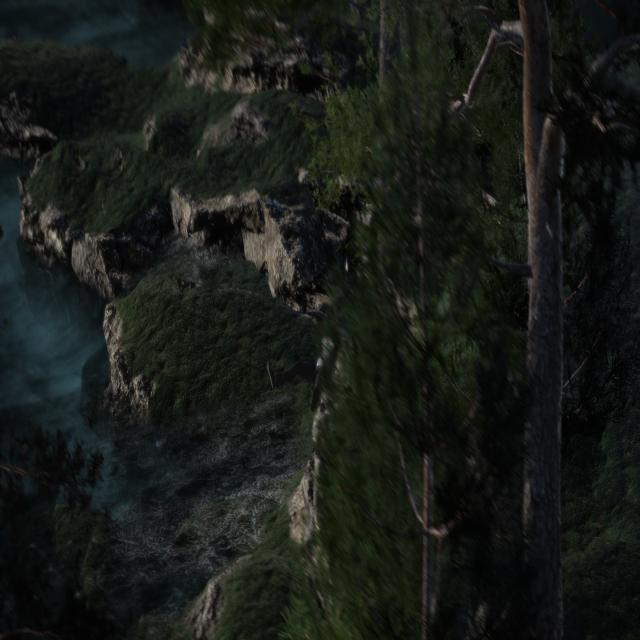Human: (260, 319, 346, 424)
